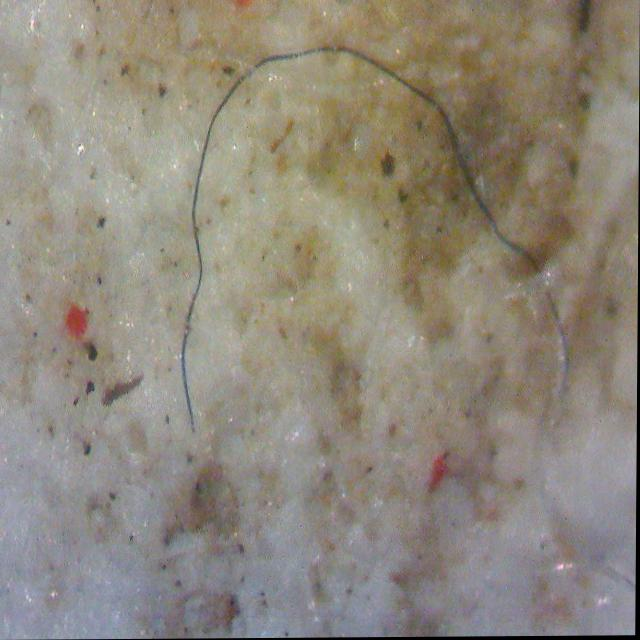microplastic: (182, 45, 572, 429)
